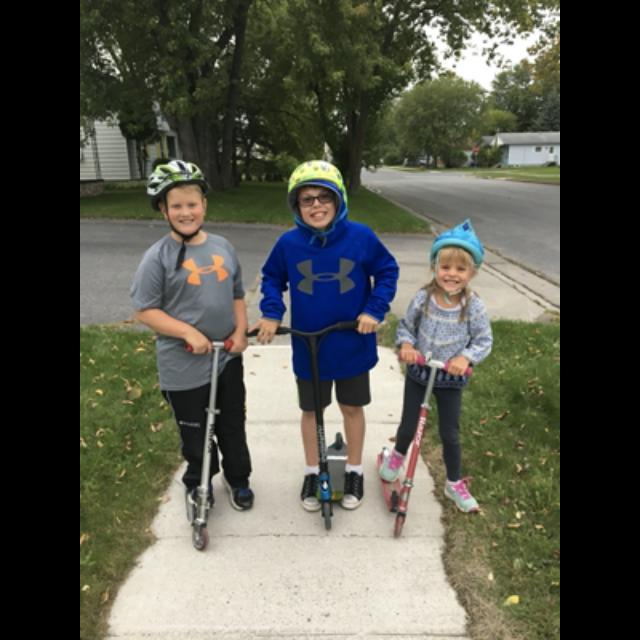With Helmet: (274, 156, 366, 247), (136, 152, 220, 250), (426, 208, 484, 300)
